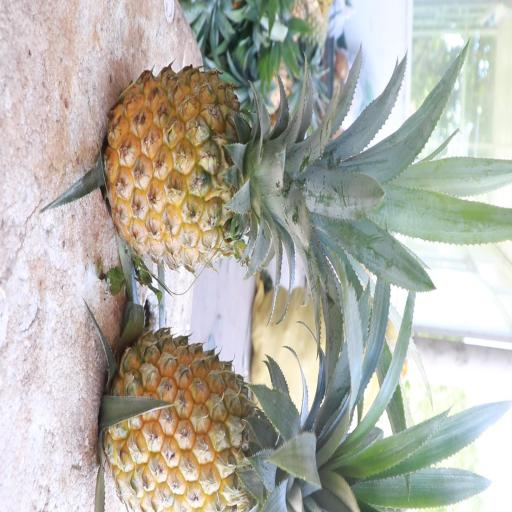Pineapple - v8 v1: (99, 61, 331, 278), (97, 324, 341, 512)
